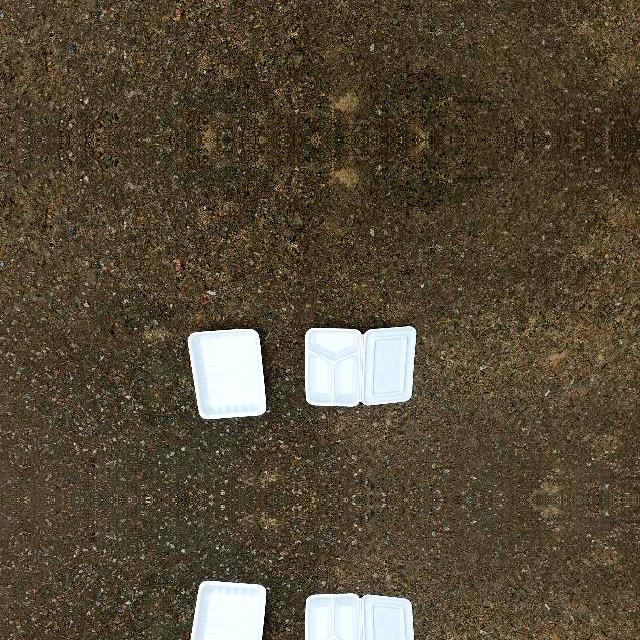Styrofoam: (304, 325, 416, 407), (306, 326, 417, 406), (186, 327, 266, 421), (187, 328, 266, 419), (304, 593, 415, 640), (306, 594, 415, 640), (185, 579, 266, 640), (190, 581, 266, 640)
